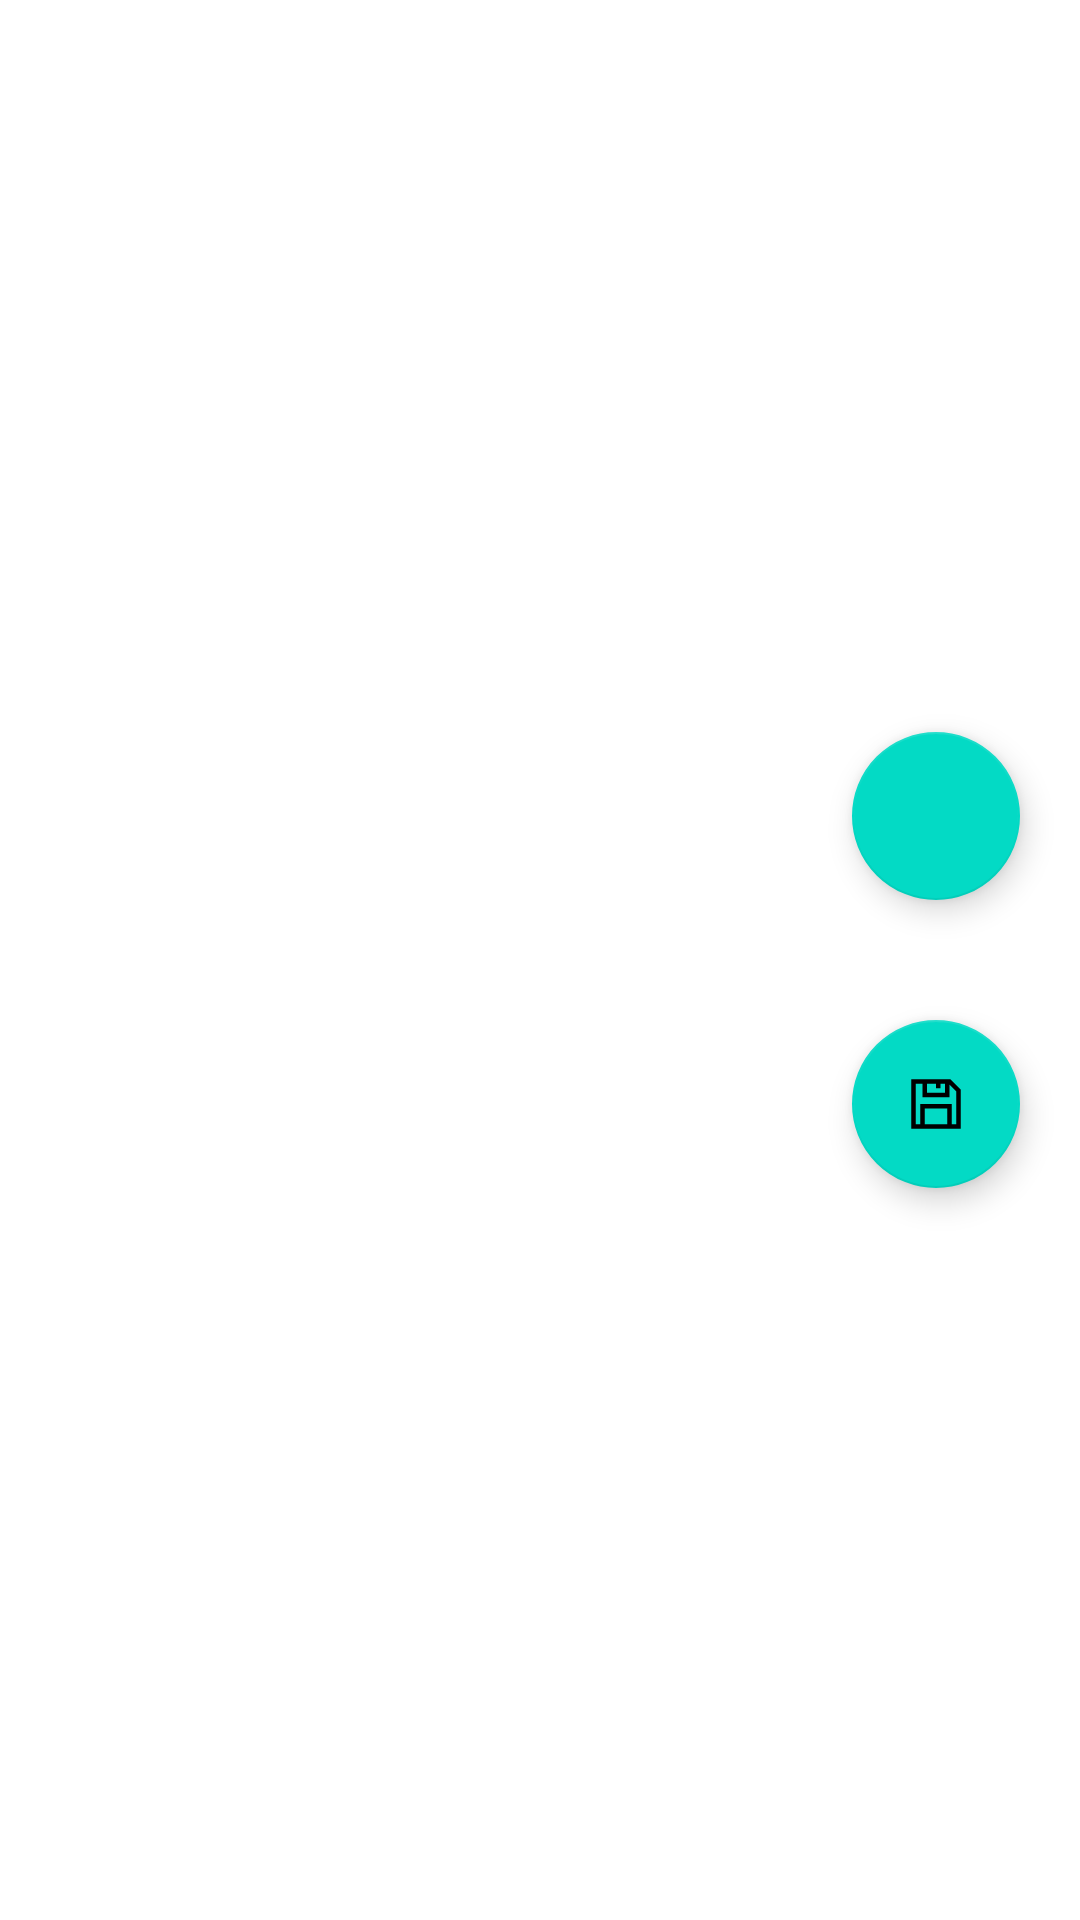

Point at icon controls on the screen. Image size 1080*1920, points as point (x, y).
save: point (936, 1104)
